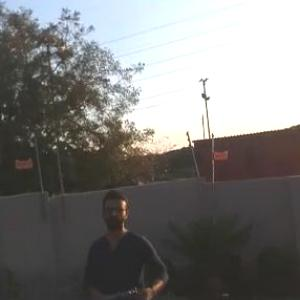follow: (79, 179, 174, 299)
